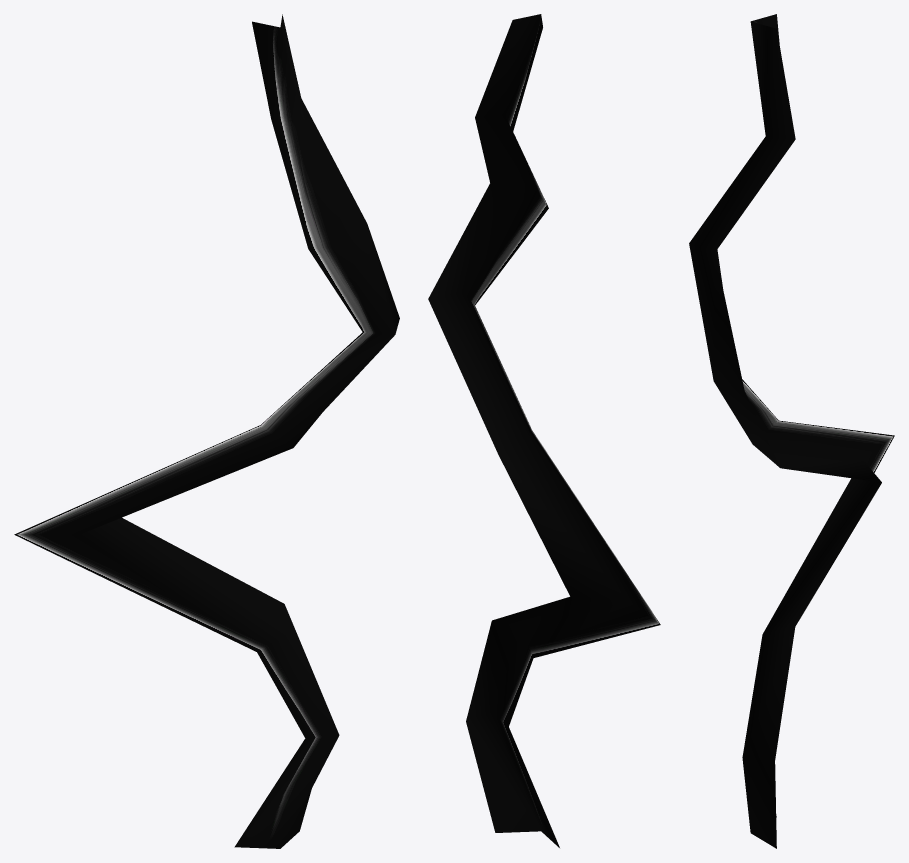
The model's file is 0389_paluqiya_lightning01.glb.
The picture shows the model from 3 angles, left to right: view 1: azimuth 30°, elevation 25°; view 2: azimuth 150°, elevation 25°; view 3: azimuth 270°, elevation 25°; orthographic projection.
Size of the model in its own units: 0.8686 by 2.2 by 0.5058.
1 material, 1 textured.
